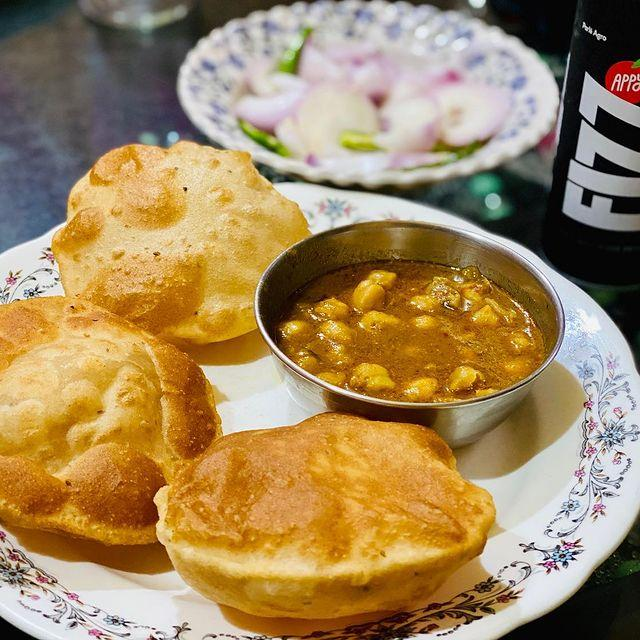Chole: (286, 252, 536, 398)
